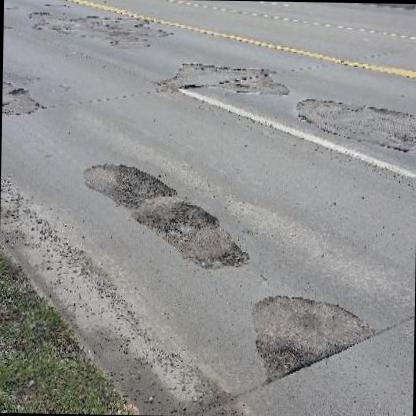pothole: (138, 200, 218, 232), (114, 162, 176, 202), (259, 344, 307, 379)
